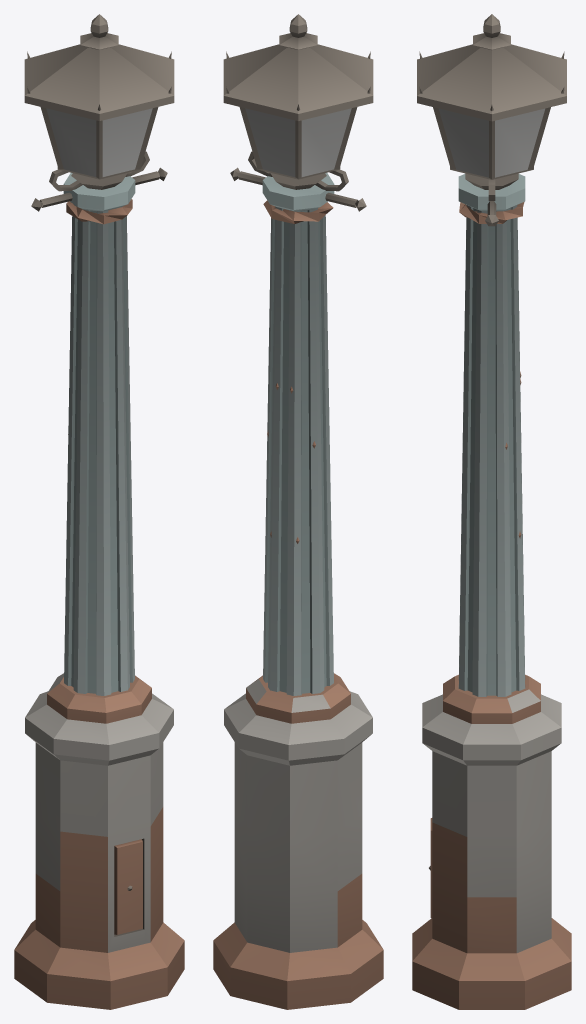
Rendered from lamp.glb.
3 renders of one model, left to right at view 1: azimuth 30°, elevation 25°; view 2: azimuth 150°, elevation 25°; view 3: azimuth 270°, elevation 25°, orthographic.
Parts seen in each view (by area): view 1: lamp; view 2: lamp; view 3: lamp.
Part boxes in pixels (x1,y1,x2,y2): lamp: (14,14,184,1009); lamp: (213,14,383,1009); lamp: (412,14,571,1009).
Bounding box in the file's own units: 0.6513 × 4 × 0.6.
